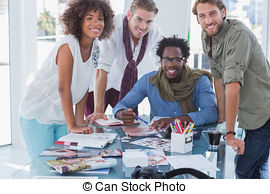face: (71, 1, 108, 47), (189, 1, 226, 38), (125, 1, 159, 39), (156, 39, 185, 82)
